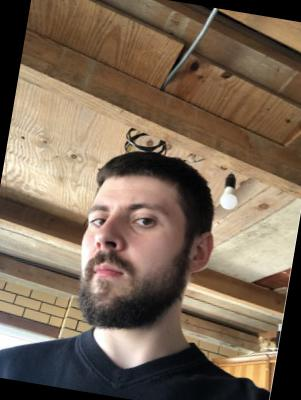without_mask: (69, 190, 184, 337)
